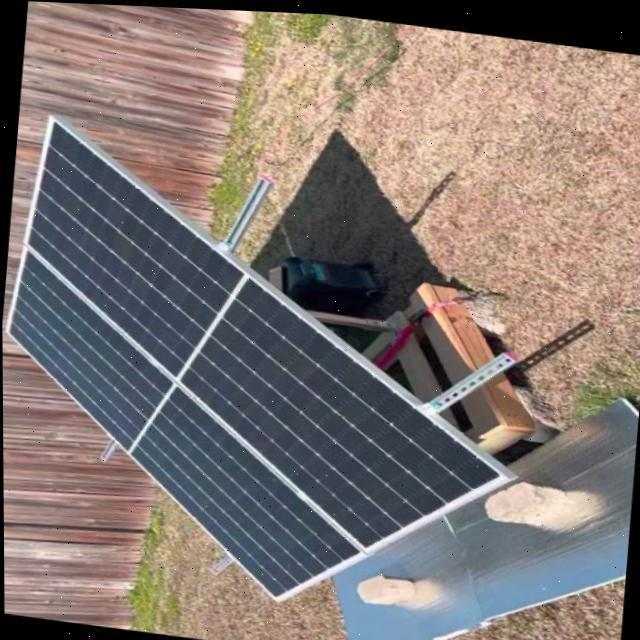Normal Solar Panel: (1, 110, 534, 624)
